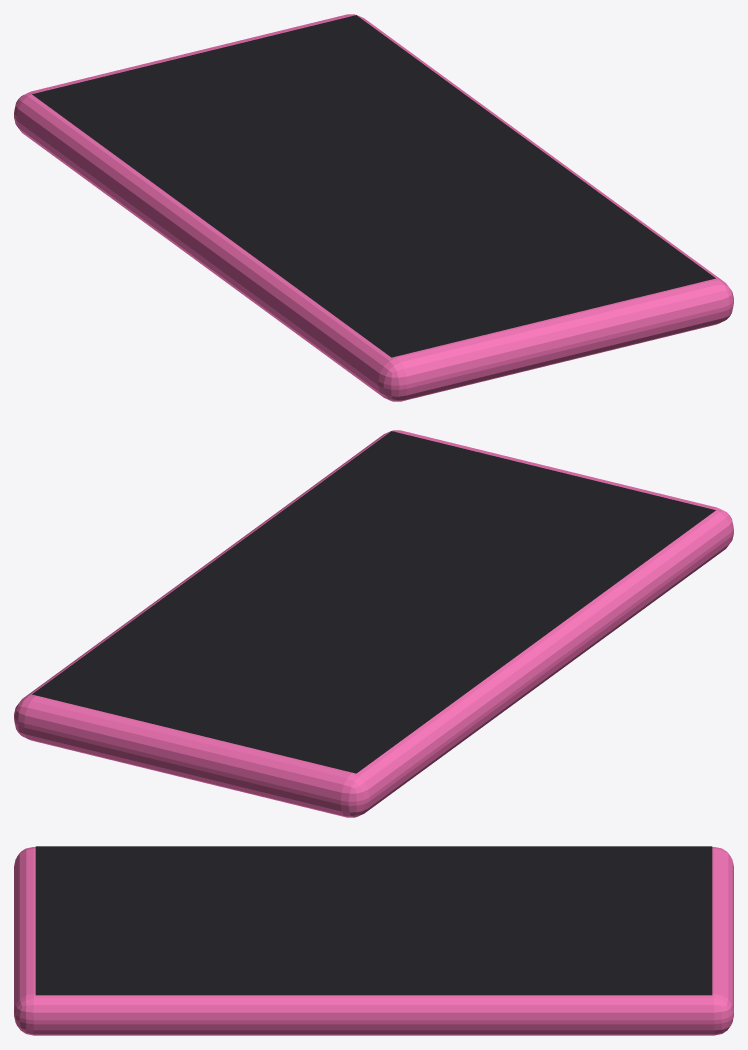
File: poco-gen-2025-mid-range-2025.glb
3 views of the same model, one above another, from view 1: azimuth 30°, elevation 25°; view 2: azimuth 150°, elevation 25°; view 3: azimuth 270°, elevation 25° (orthographic). The views are drawn at different scales.
Parts seen in each view (by area): view 1: Phone_Screen, Phone_Body; view 2: Phone_Screen, Phone_Body; view 3: Phone_Screen, Phone_Body.
Part boxes in pixels (x1,y1,x2,y2): Phone_Screen: (32,15,715,357); Phone_Body: (14,14,733,401); Phone_Screen: (32,431,715,773); Phone_Body: (14,430,733,817); Phone_Screen: (35,846,712,995); Phone_Body: (14,847,733,1035).
Bounding box in the file's own units: 0.0759 × 0.0088 × 0.1426.
